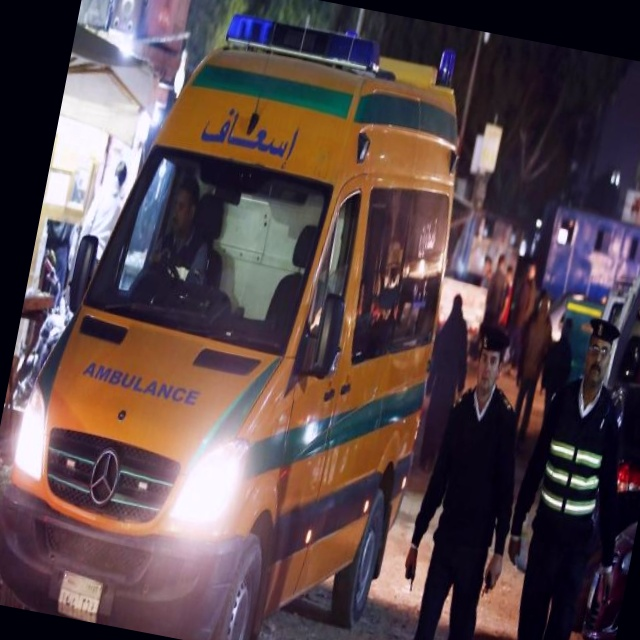Ambulance: (19, 13, 491, 640)
person: (479, 308, 640, 640), (384, 316, 547, 640), (148, 170, 226, 289)
police-car: (571, 274, 640, 400)
